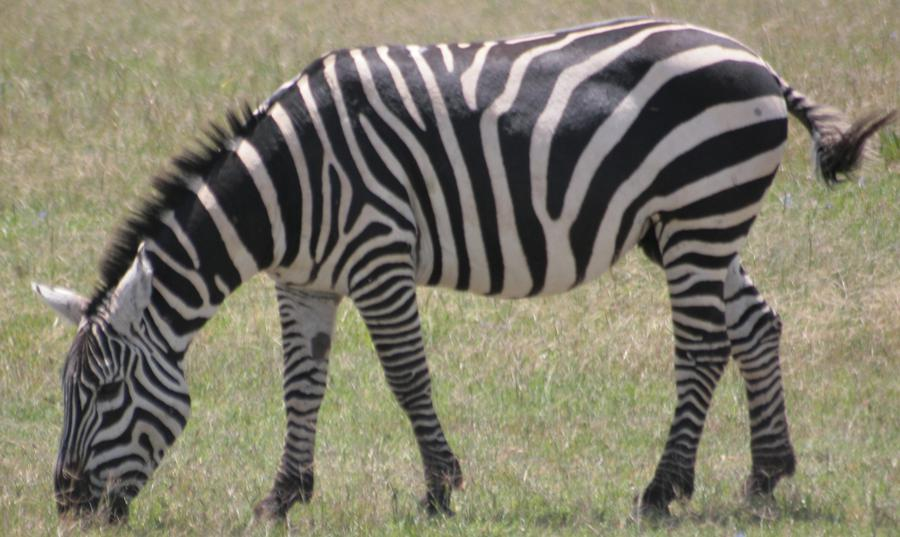zebra_plains: (281, 38, 769, 266)
